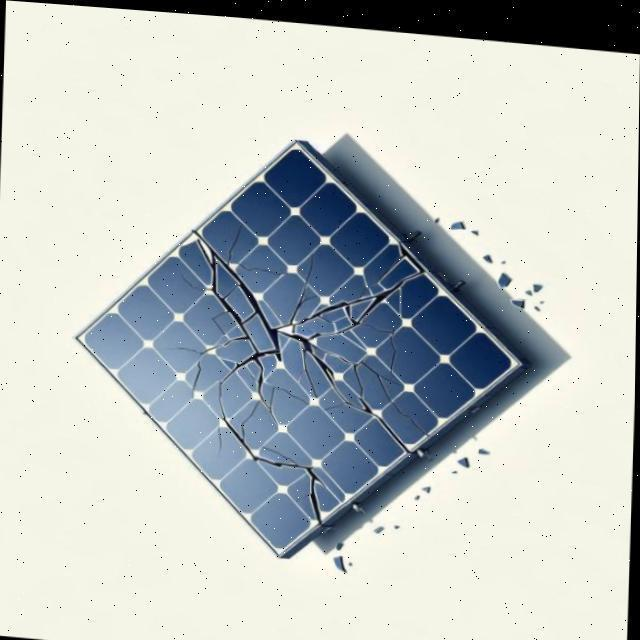Anomaly Solar Panel: (76, 125, 518, 565)
Structural Damage: (194, 342, 374, 520), (282, 315, 445, 464), (151, 232, 284, 380), (288, 242, 432, 352), (353, 306, 413, 366), (286, 246, 330, 325), (285, 338, 318, 397), (223, 216, 243, 263), (236, 259, 293, 274), (187, 356, 204, 398), (214, 422, 224, 453)
